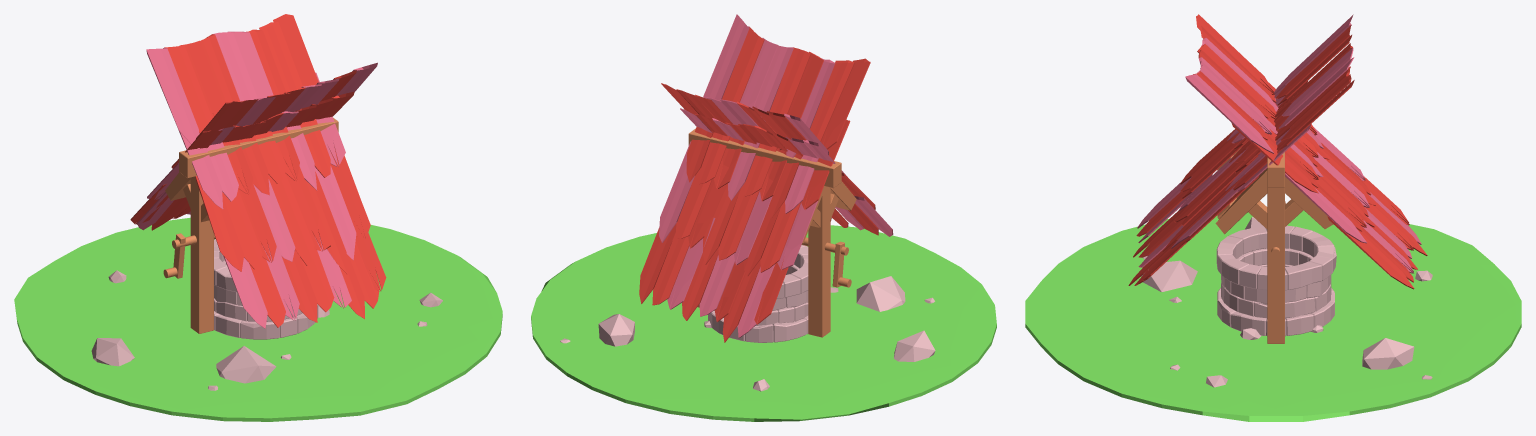
File: well.gltf
The picture shows the model from 3 angles, left to right: view 1: azimuth 30°, elevation 25°; view 2: azimuth 150°, elevation 25°; view 3: azimuth 270°, elevation 25°; orthographic projection. The views are drawn at different scales.
Visible parts, largest first — view 1: Cylinder.004, Plane, Plane.001, Cube.006, Cube.001, Icosphere.002, Cube.007, Icosphere.008, Cube.005, Cube.003; view 2: Cylinder.004, Plane.001, Plane, Cube.006, Cube.001, Cube.007, Icosphere.002, Icosphere.009, Cube.005, Icosphere.008, Cube.003, Cube.004 (+1 smaller); view 3: Cylinder.004, Plane.001, Plane, Cube.005, Cube, Cube.004, Cube.001, Cube.003, Icosphere.009, Cube.012, Icosphere.002, Cube.013 (+1 smaller).
Part boxes in pixels (bbox=[...]): Cylinder.004: bbox=[14, 217, 502, 421]; Plane: bbox=[146, 14, 386, 328]; Plane.001: bbox=[130, 62, 377, 230]; Cube.006: bbox=[190, 176, 213, 333]; Cube.001: bbox=[214, 304, 318, 339]; Icosphere.002: bbox=[216, 346, 276, 383]; Cube.007: bbox=[179, 117, 338, 178]; Icosphere.008: bbox=[91, 338, 134, 366]; Cube.005: bbox=[214, 239, 237, 292]; Cube.003: bbox=[214, 298, 302, 321]; Cylinder.004: bbox=[531, 225, 996, 421]; Plane.001: bbox=[639, 14, 870, 342]; Plane: bbox=[661, 83, 893, 236]; Cube.006: bbox=[808, 186, 830, 337]; Cube.001: bbox=[708, 310, 808, 342]; Cube.007: bbox=[688, 128, 841, 188]; Icosphere.002: bbox=[856, 276, 905, 311]; Icosphere.009: bbox=[598, 314, 634, 346]; Cube.005: bbox=[777, 245, 808, 298]; Icosphere.008: bbox=[894, 330, 935, 361]; Cube.003: bbox=[723, 302, 808, 325]; Cube.004: bbox=[772, 264, 808, 310]; Cylinder.004: bbox=[1025, 210, 1521, 421]; Plane.001: bbox=[1185, 14, 1427, 289]; Plane: bbox=[1128, 14, 1354, 285]; Cube.005: bbox=[1216, 225, 1336, 290]; Cube: bbox=[1267, 187, 1284, 343]; Cube.004: bbox=[1221, 248, 1331, 303]; Cube.001: bbox=[1217, 288, 1334, 336]; Cube.003: bbox=[1221, 264, 1331, 318]; Icosphere.009: bbox=[1362, 338, 1414, 369]; Cube.012: bbox=[1215, 168, 1267, 234]; Icosphere.002: bbox=[1141, 260, 1197, 291]; Cube.013: bbox=[1285, 177, 1333, 228].
Bounding box in the file's own units: 56.07 × 39.01 × 56.07.
